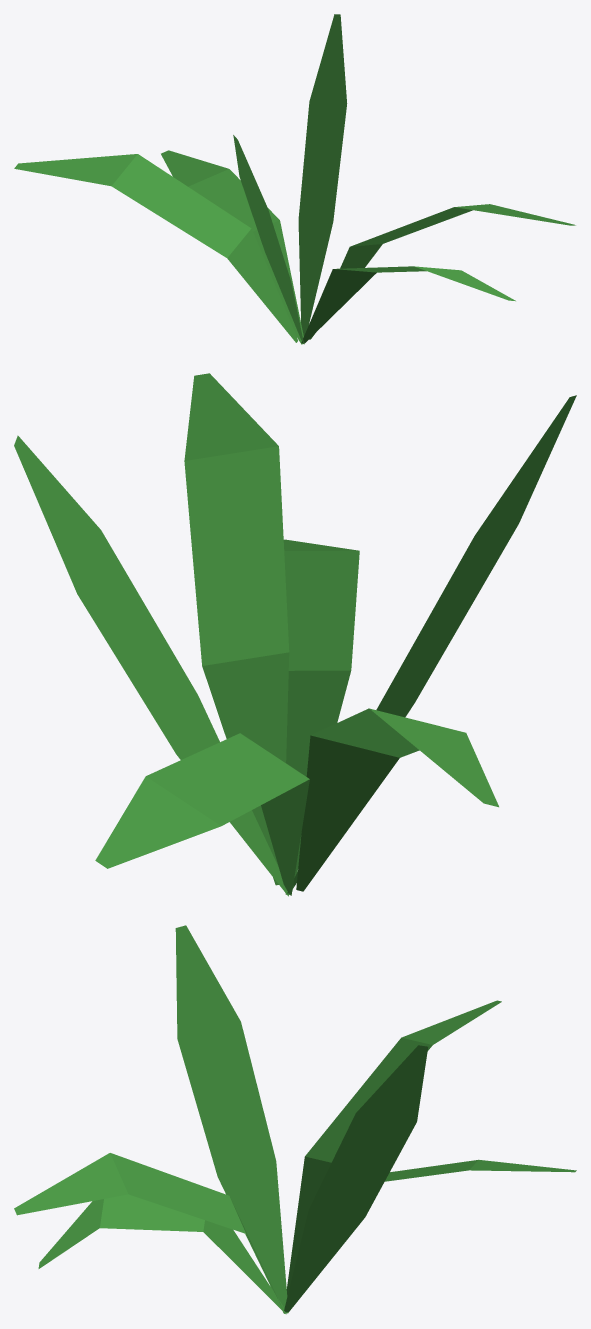
The model's file is Grass.fbx.
The picture shows the model from 3 angles, top to bottom: view 1: azimuth 30°, elevation 25°; view 2: azimuth 150°, elevation 25°; view 3: azimuth 270°, elevation 25°; orthographic projection. The views are drawn at different scales.
Parts seen in each view (by area): view 1: Grass; view 2: Grass; view 3: Grass.
Part boxes in pixels (<box>): Grass: <box>14,14,575,344</box>; Grass: <box>14,373,576,896</box>; Grass: <box>14,925,576,1314</box>.
Bounding box in the file's own units: 153 × 107 × 170.
